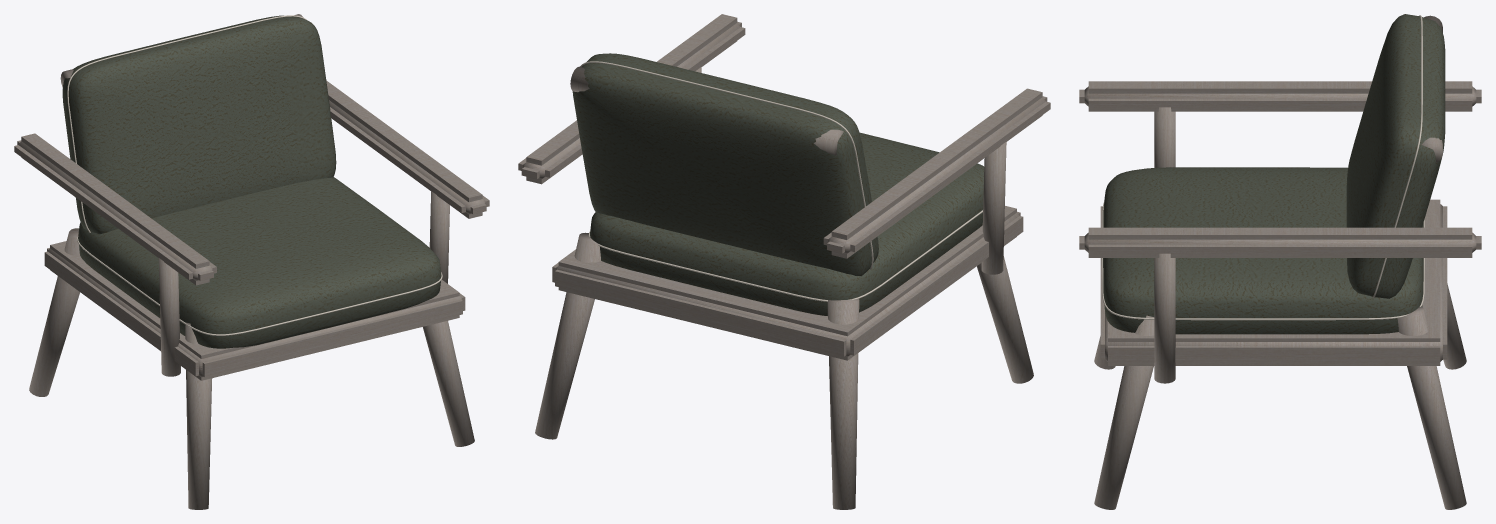
Rendered from modern.armchair.gltf.
3 renders of one model, left to right at view 1: azimuth 30°, elevation 25°; view 2: azimuth 150°, elevation 25°; view 3: azimuth 270°, elevation 25°, orthographic. The views are drawn at different scales.
Parts seen in each view (by area): view 1: modern.armchair.splayed-leg; view 2: modern.armchair.splayed-leg; view 3: modern.armchair.splayed-leg.
Boxes of the visible parts, box(x1,y1,x2,y2) form: modern.armchair.splayed-leg: box(14, 14, 489, 509); modern.armchair.splayed-leg: box(518, 14, 1050, 509); modern.armchair.splayed-leg: box(1079, 14, 1481, 509).
Bounding box in the file's own units: 0.7494 × 0.8007 × 0.7896.
3 materials, 2 textured.
